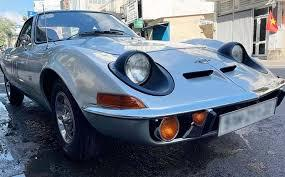opel: (193, 54, 210, 66)
